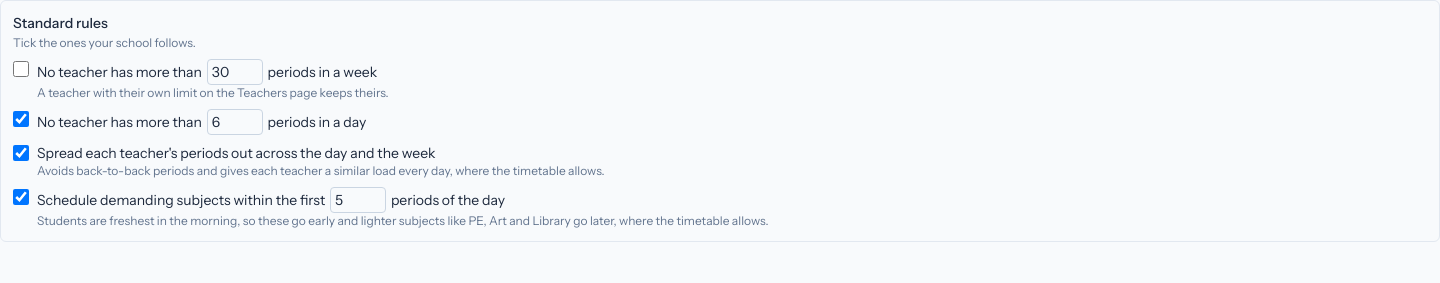
Test: the tick-box rules on the Constraints page › changing a number saves it, and a bad number is refused
Replace the text in the number field named "Number of periods in a day" with "7": (235, 122) [207,109,263,135]
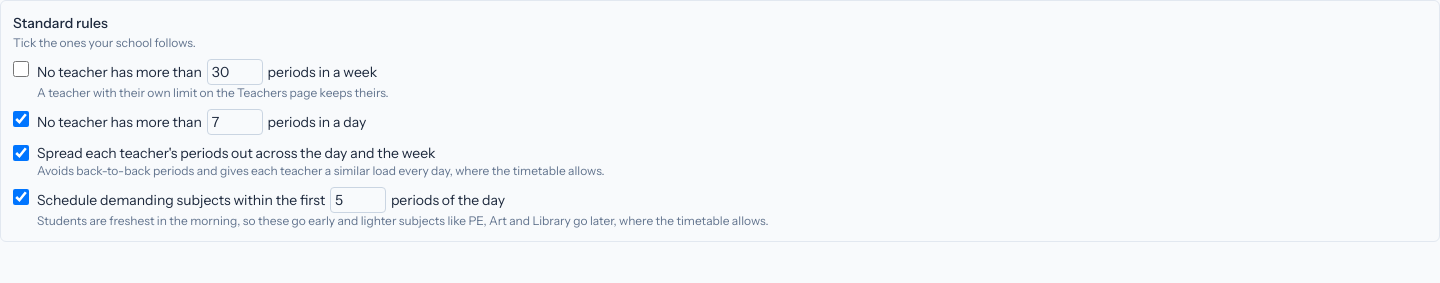
Replace the text in the number field named "Number of periods in a day" with "40": (235, 122) [207,109,263,135]
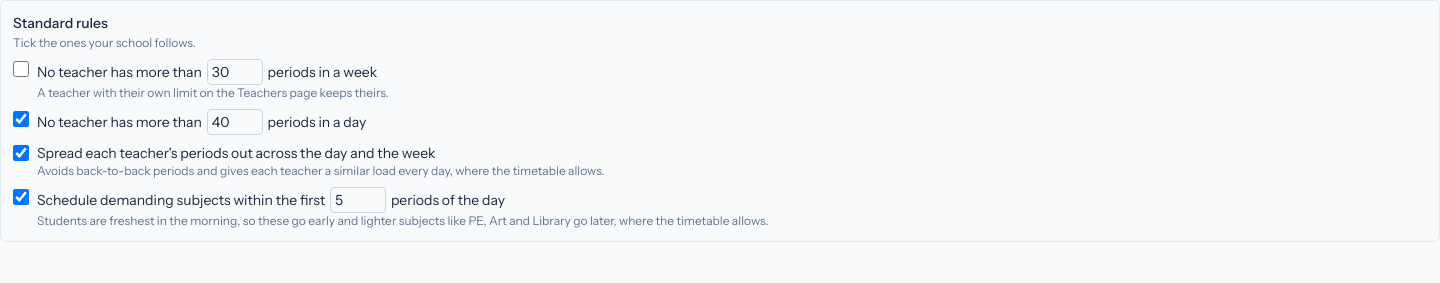
Leave the number field named "Number of periods in a day", box [207,109,263,135]
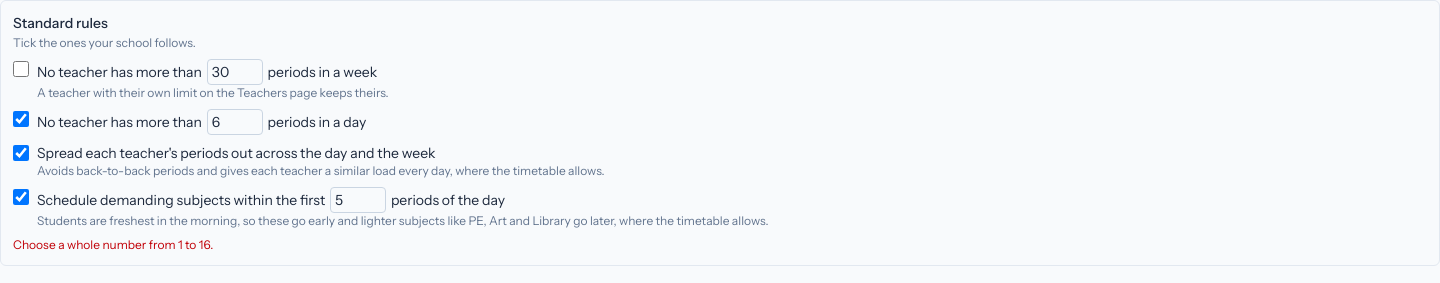
Expected: the message shows "1 to 16", [13,237,213,252]
